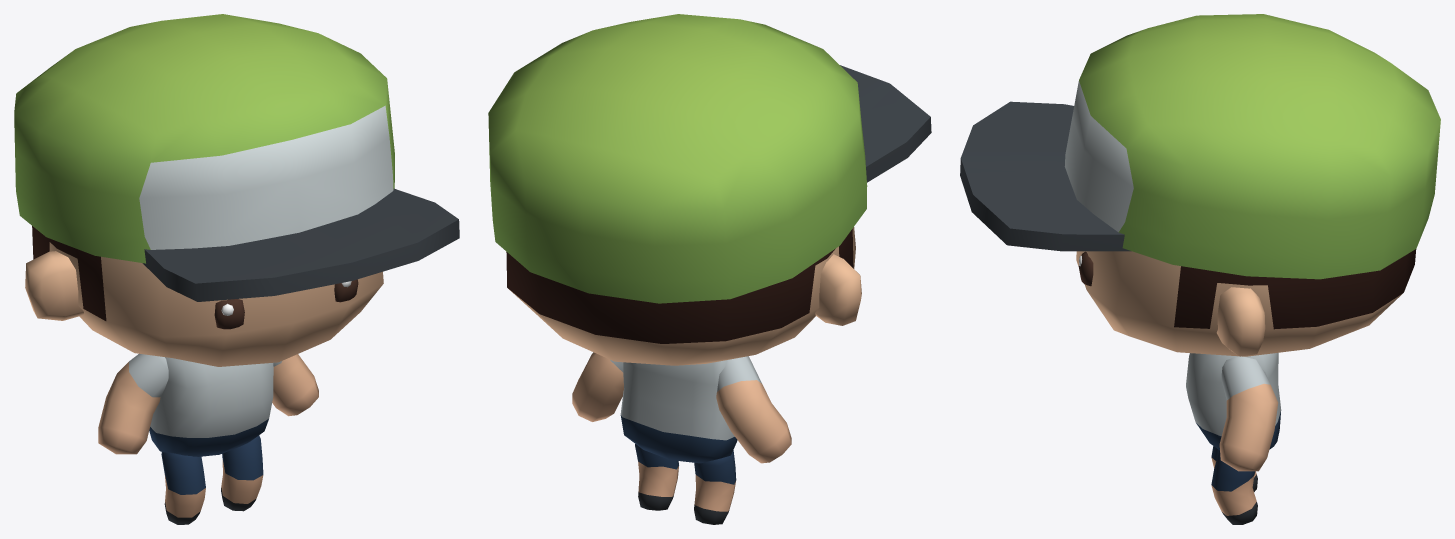
Rendered from idle_0013.obj.
The picture shows the model from 3 angles, left to right: view 1: azimuth 30°, elevation 25°; view 2: azimuth 150°, elevation 25°; view 3: azimuth 270°, elevation 25°; orthographic projection.
Visible parts, largest first — view 1: Object_41, Object_42, Object_36, Object_44, Object_38; view 2: Object_41, Object_44, Object_36, Object_42; view 3: Object_41, Object_36, Object_42, Object_44.
Boxes of the visible parts, <box> form: Object_41: <box>14,14,394,263</box>; Object_42: <box>139,105,459,301</box>; Object_36: <box>25,226,383,366</box>; Object_44: <box>98,353,318,524</box>; Object_38: <box>214,279,358,329</box>; Object_41: <box>488,14,867,303</box>; Object_44: <box>572,352,791,524</box>; Object_36: <box>506,227,861,365</box>; Object_42: <box>840,65,931,182</box>; Object_41: <box>1079,14,1440,279</box>; Object_36: <box>1076,249,1416,356</box>; Object_42: <box>960,81,1133,251</box>; Object_44: <box>1186,352,1281,524</box>.
Bounding box in the file's own units: 0.9691 × 1.22 × 1.14.
